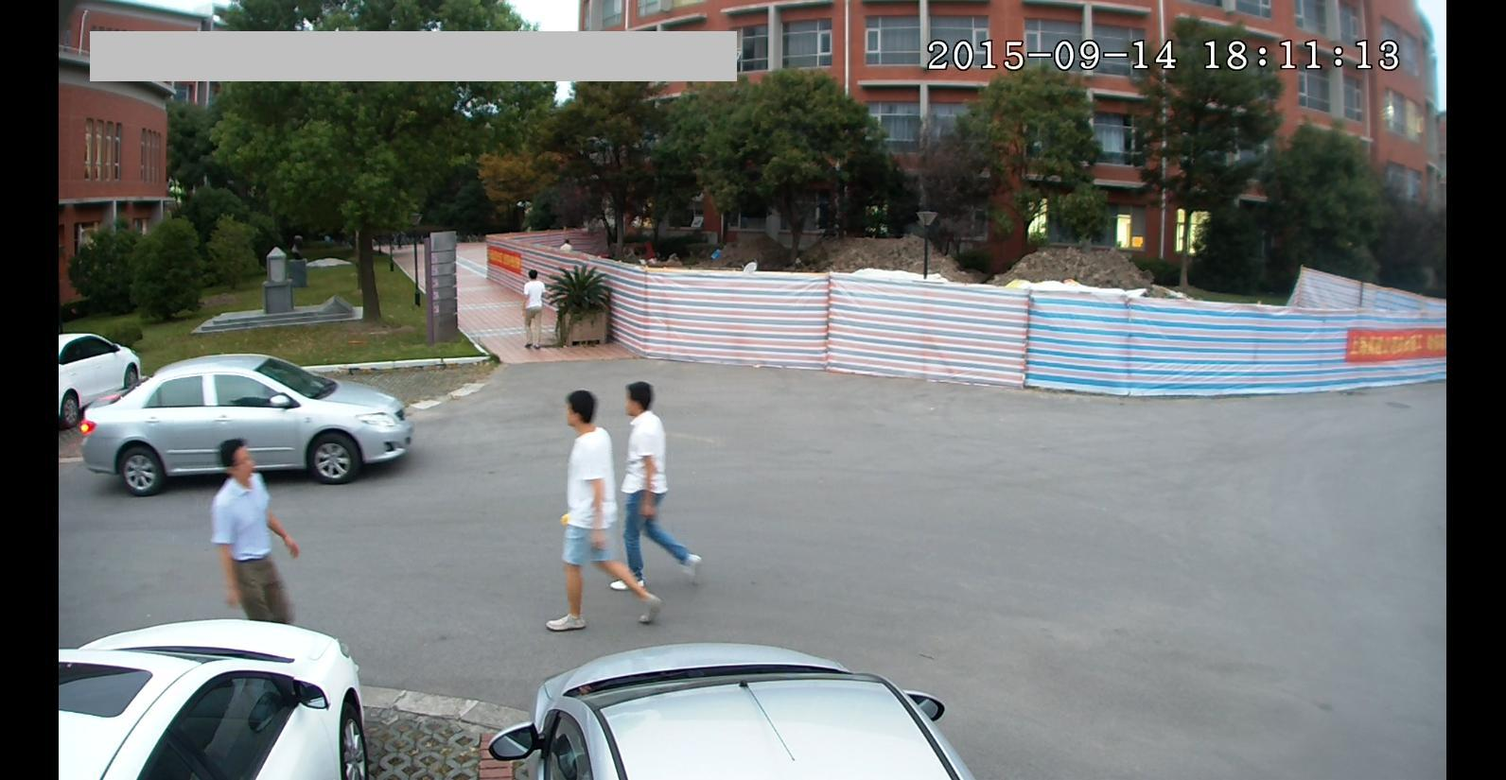person: (541, 386, 627, 639), (618, 375, 707, 590), (206, 435, 305, 624), (517, 266, 553, 355)
